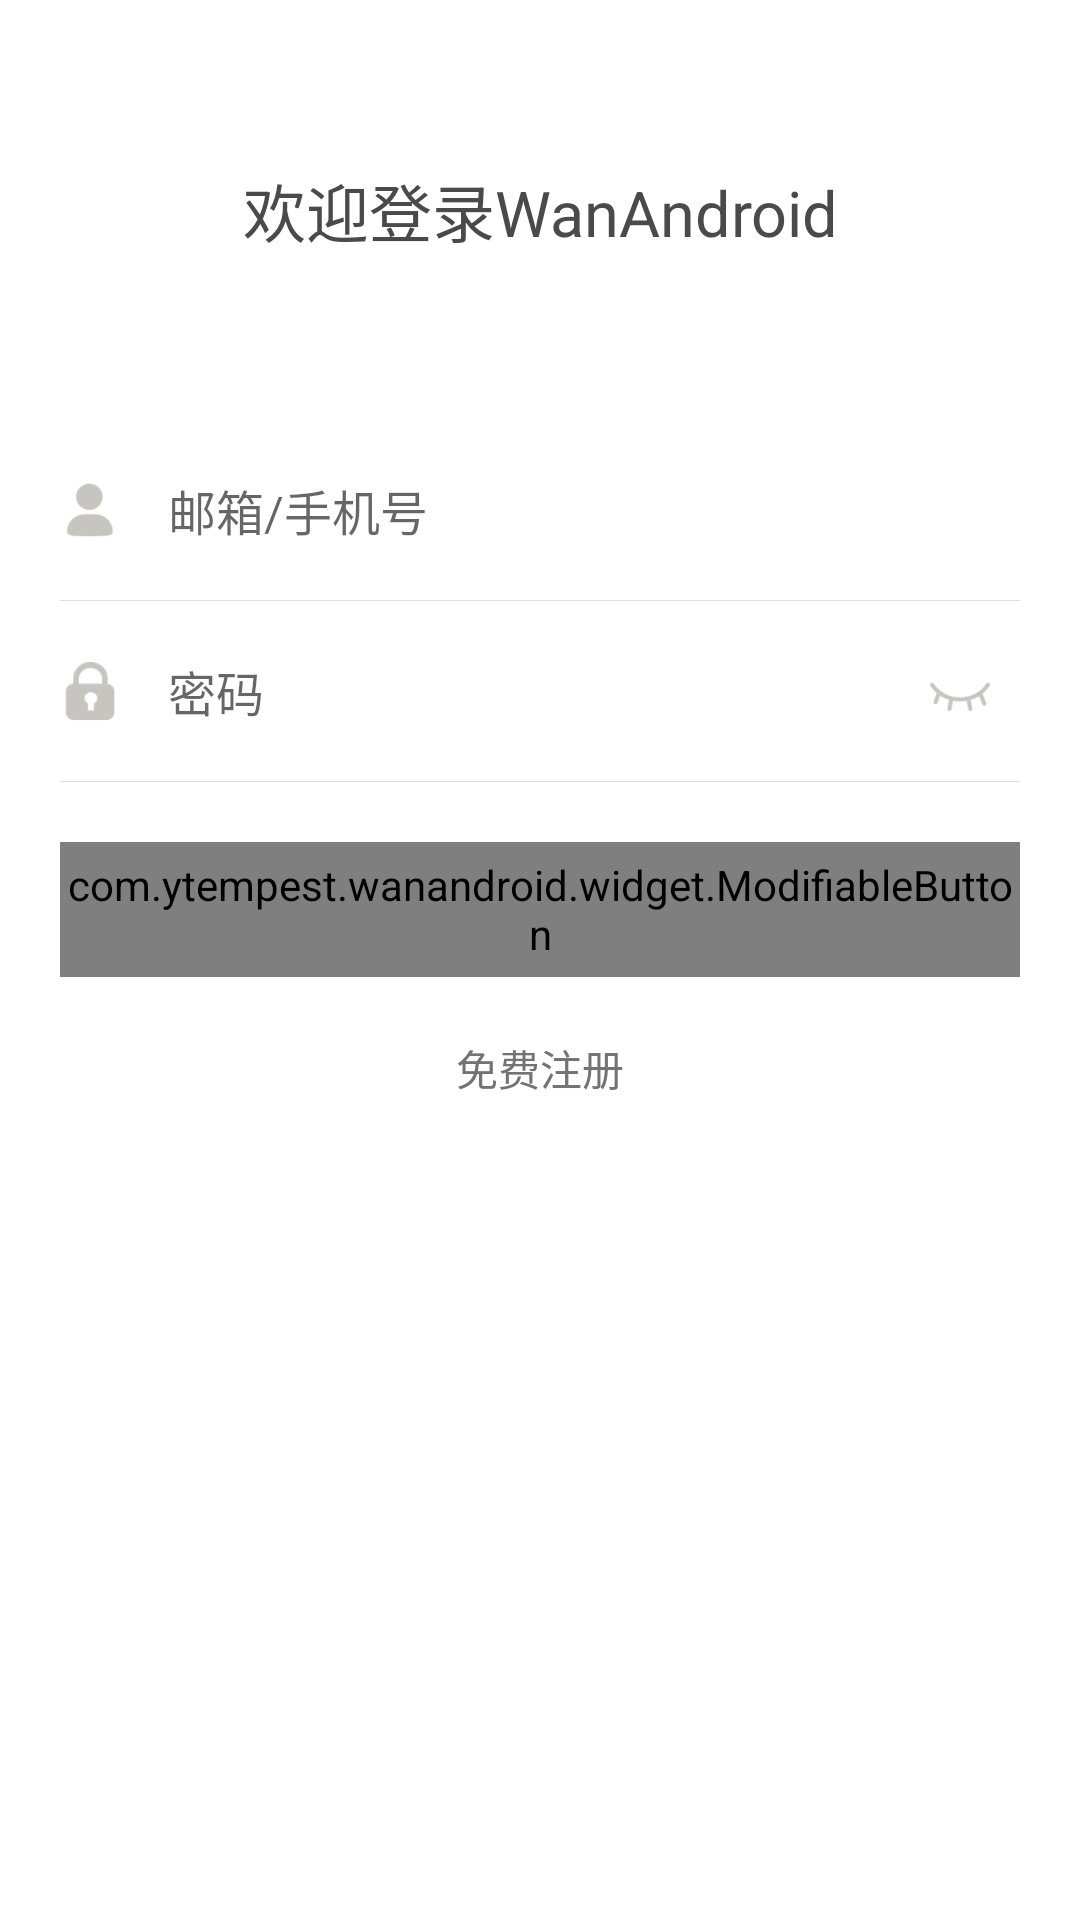

Locate icon controls on the screen. Image size 1080*1920, boxes as (x1, y1, x2, y2).
lock: (66, 662, 114, 720)
pwd status: (930, 683, 990, 711)
user: (67, 484, 113, 536)
